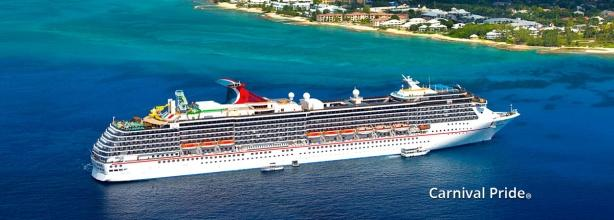youlun: (85, 64, 522, 186)
